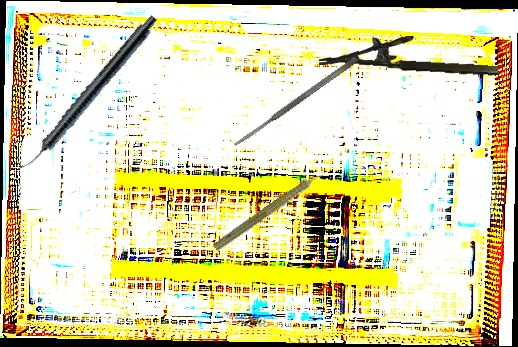Handpiece: (16, 10, 161, 177), (211, 164, 332, 257)
Needle Holder: (318, 29, 501, 78)
Spatula Surgical: (232, 55, 359, 149)
